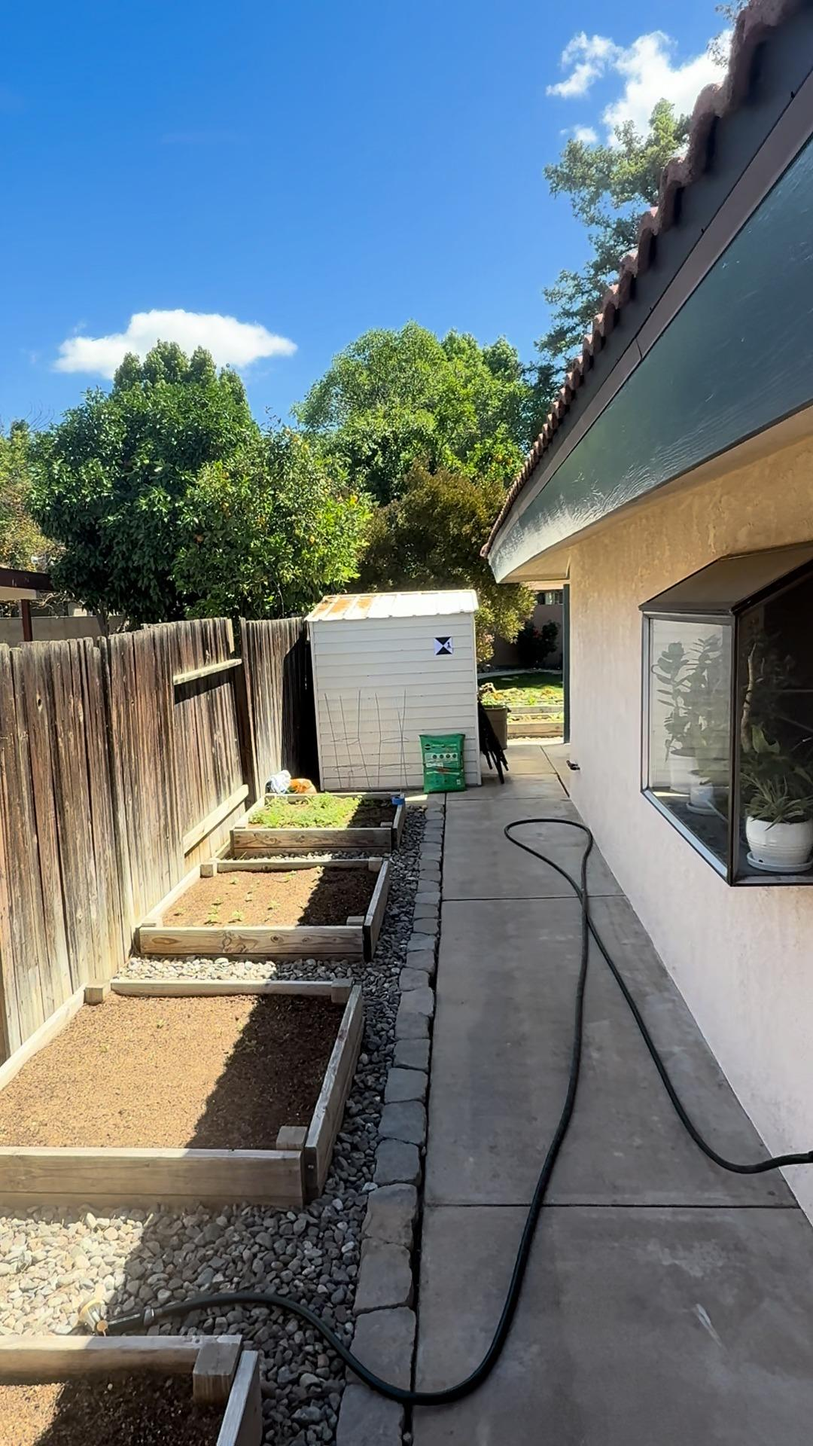target1: (433, 636, 455, 657)
